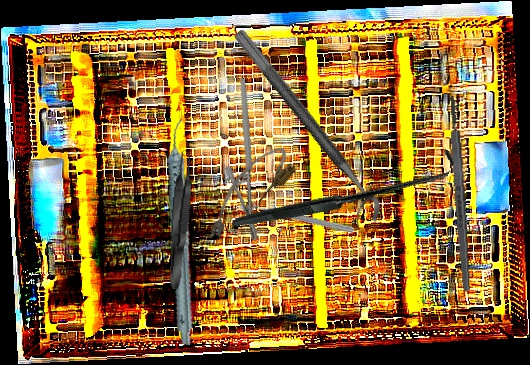Cannula: (192, 139, 302, 248)
Fixation Ring: (217, 27, 389, 233), (239, 191, 357, 237)
Handpiece: (133, 117, 234, 346)
Hook Surgical: (232, 78, 458, 302)
Needle Holder: (200, 78, 299, 242)
Scalpel Handle: (447, 94, 472, 293)
Tissue Forceps: (164, 150, 196, 291)
